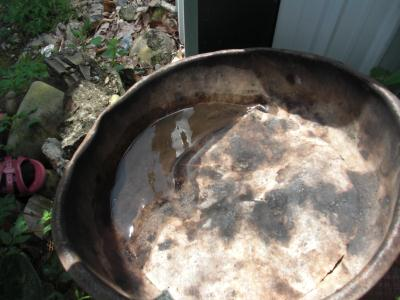bowl: (47, 46, 400, 299)
